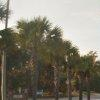Palm tree: (17, 12, 68, 95)
